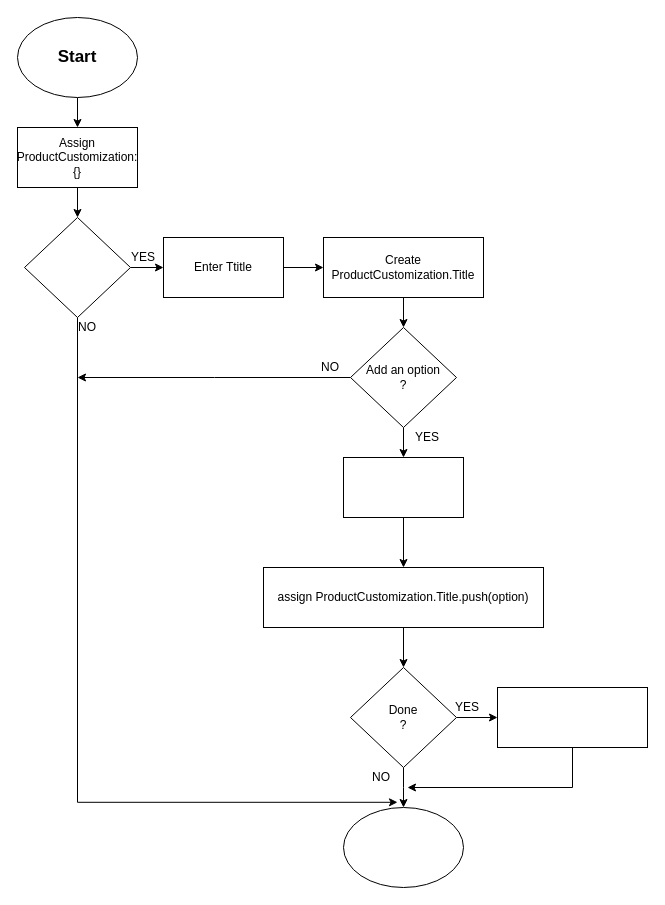
This 665x905 diagram has some shape labels left out. The shapes that lost their labels are listed below. From the top down, each one's centre as x and y in pixels, then its label:
the point at 77,267: Add Product Customization ?
the point at 403,487: Enter an option
the point at 572,717: Send ProductCustomization object to [AddProduct]
the point at 403,847: END
